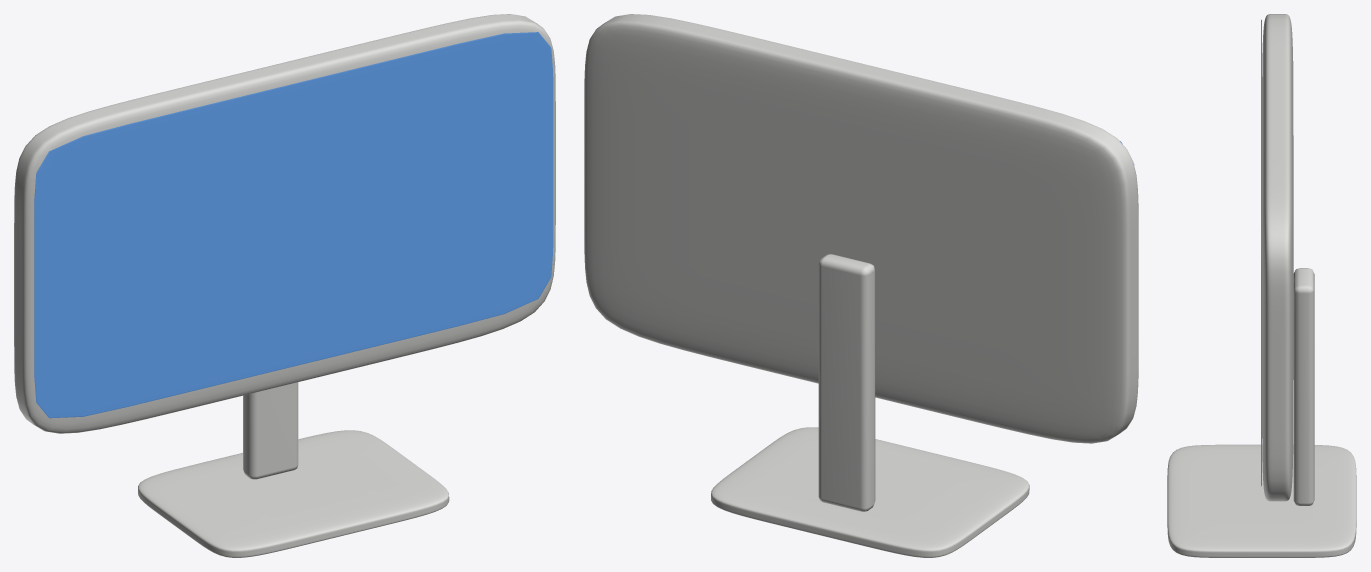
The model's file is 24-inch-white-on.glb.
3 views of the same model, side by side, from view 1: azimuth 30°, elevation 25°; view 2: azimuth 150°, elevation 25°; view 3: azimuth 270°, elevation 25° (orthographic). The views are drawn at different scales.
Parts seen in each view (by area): view 1: screen_on, plastic_primary; view 2: plastic_primary; view 3: plastic_primary, screen_on.
Part boxes in pixels (x1,y1,x2,y2): screen_on: (34, 32, 553, 418); plastic_primary: (14, 14, 555, 557); plastic_primary: (584, 14, 1138, 557); plastic_primary: (1167, 14, 1356, 557); screen_on: (1261, 19, 1261, 486).
Bounding box in the file's own units: 0.54 × 0.4138 × 0.18.
